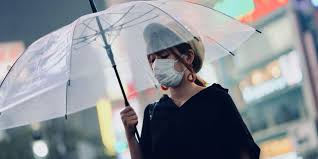with-mask: (139, 23, 205, 91)
